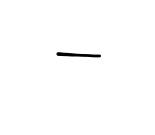minus: (55, 48, 102, 61)
